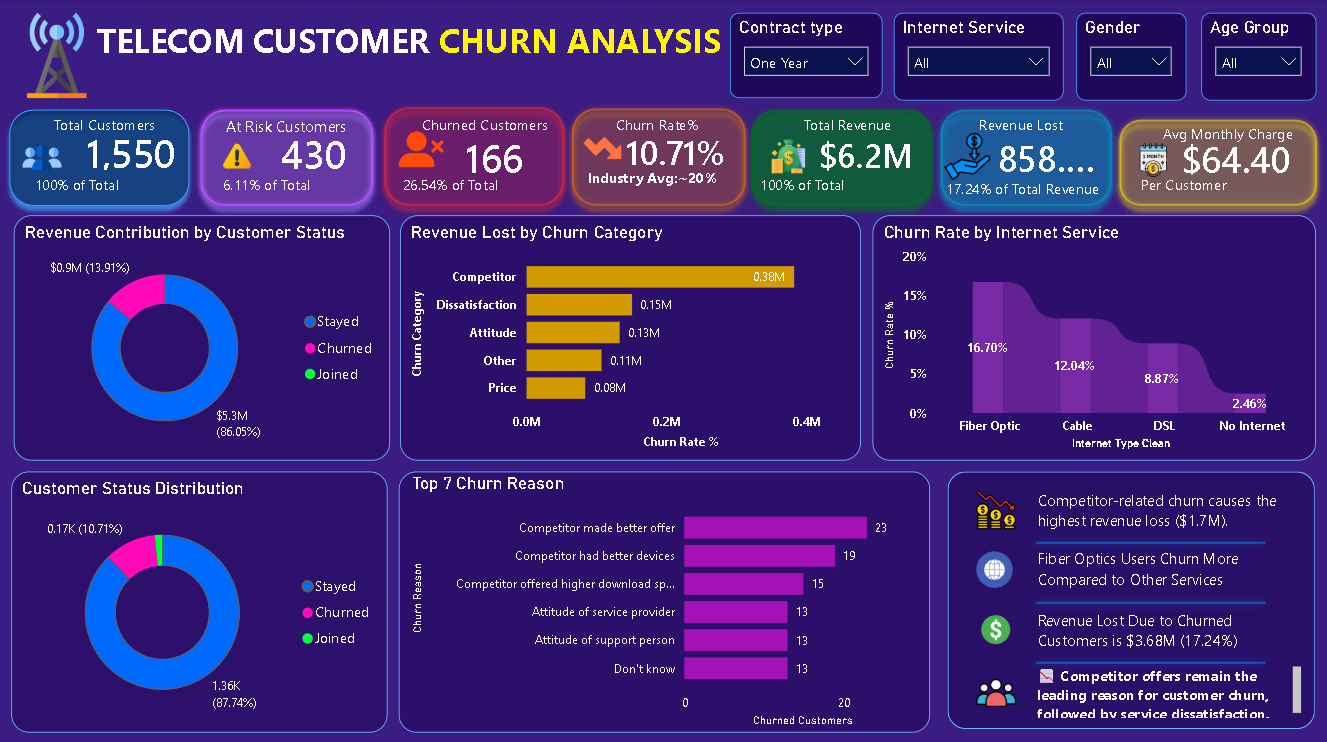

This screenshot's page, from the dashboard's own definition file:
{"tool":"powerbi","page":{"name":"Page 1","canvas":[1280,720],"ordinal":0},"visuals":[{"type":"shape","box":[1071.3,107.4,208.7,101.3],"z":0},{"type":"shape","box":[716.6,97.7,191.8,111],"z":1000},{"type":"shape","box":[542.9,96.5,185.8,112.2],"z":2000},{"type":"shape","box":[361.9,95.3,191.8,113.4],"z":3000},{"type":"shape","box":[0,97.7,191.8,111],"z":4000},{"type":"cardVisual","fields":{"Data":["Count(cleaned_tc_cust_churn.Customer ID)"]},"box":[54.3,111,159.3,71.2],"z":5000},{"type":"cardVisual","title":"Churned Customers","fields":{"Data":["cleaned_tc_cust_churn.Churned Customers"]},"box":[419.8,118.2,148.4,67.6],"z":6000},{"type":"cardVisual","title":"Churn Rate %","fields":{"Data":["cleaned_tc_cust_churn.Churn Rate%"]},"box":[575.5,96.5,170.1,101.3],"z":7000},{"type":"cardVisual","title":"Total Revenue","fields":{"Data":["cleaned_tc_cust_churn.Total_Revenue"]},"box":[761.3,115.8,202.7,67.6],"z":8000},{"type":"donutChart","title":"Revenue Contribution by Customer Status","fields":{"Category":["cleaned_tc_cust_churn.Customer Status"],"Y":["cleaned_tc_cust_churn.Total_Revenue"]},"box":[13.3,208.7,363.1,236.5],"z":9000},{"type":"clusteredBarChart","title":"Revenue Lost by Churn Category","fields":{"Y":["cleaned_tc_cust_churn.Revenue Lost"],"Category":["cleaned_tc_cust_churn.Churn Category"]},"box":[386.1,208.7,445.2,236.5],"z":10000},{"type":"ribbonChart","title":"Churn Rate  by Internet Service","fields":{"Category":["cleaned_tc_cust_churn.Internet Type Clean"],"Y":["cleaned_tc_cust_churn.Churn Rate%"]},"box":[842.1,208.7,428.3,236.5],"z":11000},{"type":"image","box":[21.7,127.9,37.4,50.7],"z":12000},{"type":"textbox","box":[27.7,107.4,146,30.2],"z":13000},{"type":"textbox","box":[27.7,165.3,92.9,29],"z":14000},{"type":"shape","box":[184.6,97.7,184.6,111],"z":15000},{"type":"cardVisual","fields":{"Data":["cleaned_tc_cust_churn.Customer At Risk"]},"box":[242.5,112.2,150.8,71.2],"z":16000},{"type":"textbox","box":[200.3,165.3,114.6,29],"z":17000},{"type":"textbox","title":"At Risk Customers","box":[213.5,112.2,135.1,27.7],"z":18000},{"type":"image","box":[213.5,126.7,30.2,50.7],"z":19000},{"type":"textbox","box":[392.1,107.4,159.3,30.2],"z":20000},{"type":"textbox","box":[377.6,165.3,114.6,29],"z":21000},{"type":"image","box":[6,13.3,97.7,82],"z":22000},{"type":"image","box":[384.9,119.4,43.4,50.7],"z":23000},{"type":"textbox","box":[562.2,158,146,36.2],"z":24000},{"type":"image","box":[562.2,118.2,38.6,50.7],"z":25000},{"type":"textbox","box":[568.2,107.4,139.9,37.4],"z":26000},{"type":"textbox","box":[761.3,107.4,118.2,30.2],"z":27000},{"type":"textbox","box":[728.7,165.3,113.4,29],"z":28000},{"type":"image","box":[744.4,129.1,32.6,45.8],"z":29000},{"type":"shape","box":[898.8,97.7,183.4,111],"z":30000},{"type":"cardVisual","title":"Total Revenue","fields":{"Data":["cleaned_tc_cust_churn.Revenue Lost"]},"box":[933.8,118.2,167.7,67.6],"z":31000},{"type":"textbox","box":[914.5,107.4,142.4,42.2],"z":32000},{"type":"textbox","box":[908.4,168.9,173.7,29],"z":33000},{"type":"image","box":[1096.7,132.7,32.6,45.8],"z":34000},{"type":"textbox","box":[1096.7,165.3,131.5,32.6],"z":35000},{"type":"textbox","box":[1109.9,115.8,150.8,39.8],"z":36000},{"type":"image","box":[908.4,129.1,50.7,45.8],"z":37000},{"type":"cardVisual","title":"Total Revenue","fields":{"Data":["cleaned_tc_cust_churn.Average Monthly Charge"]},"box":[1111.1,119.4,168.9,67.6],"z":38000},{"type":"slicer","title":"Contract type","fields":{"Values":["cleaned_tc_cust_churn.Contract"]},"box":[704.6,13.3,147.2,82],"z":39000},{"type":"slicer","title":"Gender","fields":{"Values":["cleaned_tc_cust_churn.gender short"]},"box":[1038.7,13.3,106.2,84.5],"z":40000},{"type":"slicer","title":"Internet Service","fields":{"Values":["cleaned_tc_cust_churn.Internet Service"]},"box":[862.6,13.3,164.1,84.5],"z":41000},{"type":"donutChart","title":"Customer Status Distribution","fields":{"Category":["cleaned_tc_cust_churn.Customer Status"],"Y":["CountNonNull(cleaned_tc_cust_churn.Customer ID)"]},"box":[10.9,456,363.1,252.1],"z":42000},{"type":"clusteredBarChart","title":"  Top 7 Churn Reason","fields":{"Category":["cleaned_tc_cust_churn.Churn Reason"],"Y":["cleaned_tc_cust_churn.Churned Customers"]},"box":[384.9,456,512.7,252.1],"z":43000},{"type":"shape","box":[914.5,456,354.7,248.5],"z":44000},{"type":"textbox","box":[996.9,468,256.2,50.3],"z":45000},{"type":"image","box":[941.9,461,38.6,64.4],"z":46000},{"type":"textbox","box":[996.9,525.3,256.2,50.3],"z":47000},{"type":"textbox","box":[996.9,583.8,256.2,50.3],"z":48000},{"type":"textbox","box":[996.9,638.8,264.4,59.7],"z":49000},{"type":"image","box":[941.9,518.3,35.1,64.4],"z":50000},{"type":"image","box":[943,576.8,35.1,64.4],"z":51000},{"type":"shape","box":[992.2,506.6,237.5,36.3],"z":52000},{"type":"shape","box":[992.2,565.1,237.5,36.3],"z":53000},{"type":"shape","box":[992.2,622.4,237.5,36.3],"z":54000},{"type":"image","box":[941.9,634.1,38.6,70.2],"z":55000},{"type":"slicer","title":"Age Group","fields":{"Values":["cleaned_tc_cust_churn.Age Group"]},"box":[1159.4,13.3,111,84.5],"z":56000},{"type":"textbox","box":[84.5,13.3,620.1,56.7],"z":57000}]}

Visuals, with their boxes in screenshot pixels (x1, y1, x2, y2), scaled from the page's 1280x720 canvas onto the 1327x742 screenshot:
shape: (left=1111, top=111, right=1326, bottom=215)
shape: (left=743, top=101, right=942, bottom=215)
shape: (left=563, top=99, right=755, bottom=215)
shape: (left=375, top=98, right=574, bottom=215)
shape: (left=0, top=101, right=199, bottom=215)
cardVisual - Count(cleaned_tc_cust_churn.Customer ID): (left=56, top=114, right=221, bottom=188)
"Churned Customers" cardVisual: (left=435, top=122, right=589, bottom=191)
"Churn Rate %" cardVisual: (left=597, top=99, right=773, bottom=204)
"Total Revenue" cardVisual: (left=789, top=119, right=999, bottom=189)
"Revenue Contribution by Customer Status" donutChart: (left=14, top=215, right=390, bottom=459)
"Revenue Lost by Churn Category" clusteredBarChart: (left=400, top=215, right=862, bottom=459)
"Churn Rate  by Internet Service" ribbonChart: (left=873, top=215, right=1317, bottom=459)
image: (left=22, top=132, right=61, bottom=184)
textbox: (left=29, top=111, right=180, bottom=142)
textbox: (left=29, top=170, right=125, bottom=200)
shape: (left=191, top=101, right=383, bottom=215)
cardVisual - cleaned_tc_cust_churn.Customer At Risk: (left=251, top=116, right=408, bottom=189)
textbox: (left=208, top=170, right=326, bottom=200)
"At Risk Customers" textbox: (left=221, top=116, right=361, bottom=144)
image: (left=221, top=131, right=253, bottom=183)
textbox: (left=406, top=111, right=572, bottom=142)
textbox: (left=391, top=170, right=510, bottom=200)
image: (left=6, top=14, right=108, bottom=98)
image: (left=399, top=123, right=444, bottom=175)
textbox: (left=583, top=163, right=734, bottom=200)
image: (left=583, top=122, right=623, bottom=174)
textbox: (left=589, top=111, right=734, bottom=149)
textbox: (left=789, top=111, right=912, bottom=142)
textbox: (left=755, top=170, right=873, bottom=200)
image: (left=772, top=133, right=806, bottom=180)
shape: (left=932, top=101, right=1122, bottom=215)
"Total Revenue" cardVisual: (left=968, top=122, right=1142, bottom=191)
textbox: (left=948, top=111, right=1096, bottom=154)
textbox: (left=942, top=174, right=1122, bottom=204)
image: (left=1137, top=137, right=1171, bottom=184)
textbox: (left=1137, top=170, right=1273, bottom=204)
textbox: (left=1151, top=119, right=1307, bottom=160)
image: (left=942, top=133, right=994, bottom=180)
"Total Revenue" cardVisual: (left=1152, top=123, right=1326, bottom=193)
"Contract type" slicer: (left=730, top=14, right=883, bottom=98)
"Gender" slicer: (left=1077, top=14, right=1187, bottom=101)
"Internet Service" slicer: (left=894, top=14, right=1064, bottom=101)
"Customer Status Distribution" donutChart: (left=11, top=470, right=388, bottom=730)
"  Top 7 Churn Reason" clusteredBarChart: (left=399, top=470, right=931, bottom=730)
shape: (left=948, top=470, right=1316, bottom=726)
textbox: (left=1034, top=482, right=1299, bottom=534)
image: (left=976, top=475, right=1017, bottom=541)
textbox: (left=1034, top=541, right=1299, bottom=593)
textbox: (left=1034, top=602, right=1299, bottom=653)
textbox: (left=1034, top=658, right=1308, bottom=720)
image: (left=976, top=534, right=1013, bottom=601)
image: (left=978, top=594, right=1014, bottom=661)
shape: (left=1029, top=522, right=1275, bottom=559)
shape: (left=1029, top=582, right=1275, bottom=620)
shape: (left=1029, top=641, right=1275, bottom=679)
image: (left=976, top=653, right=1017, bottom=726)
"Age Group" slicer: (left=1202, top=14, right=1317, bottom=101)
textbox: (left=88, top=14, right=730, bottom=72)
